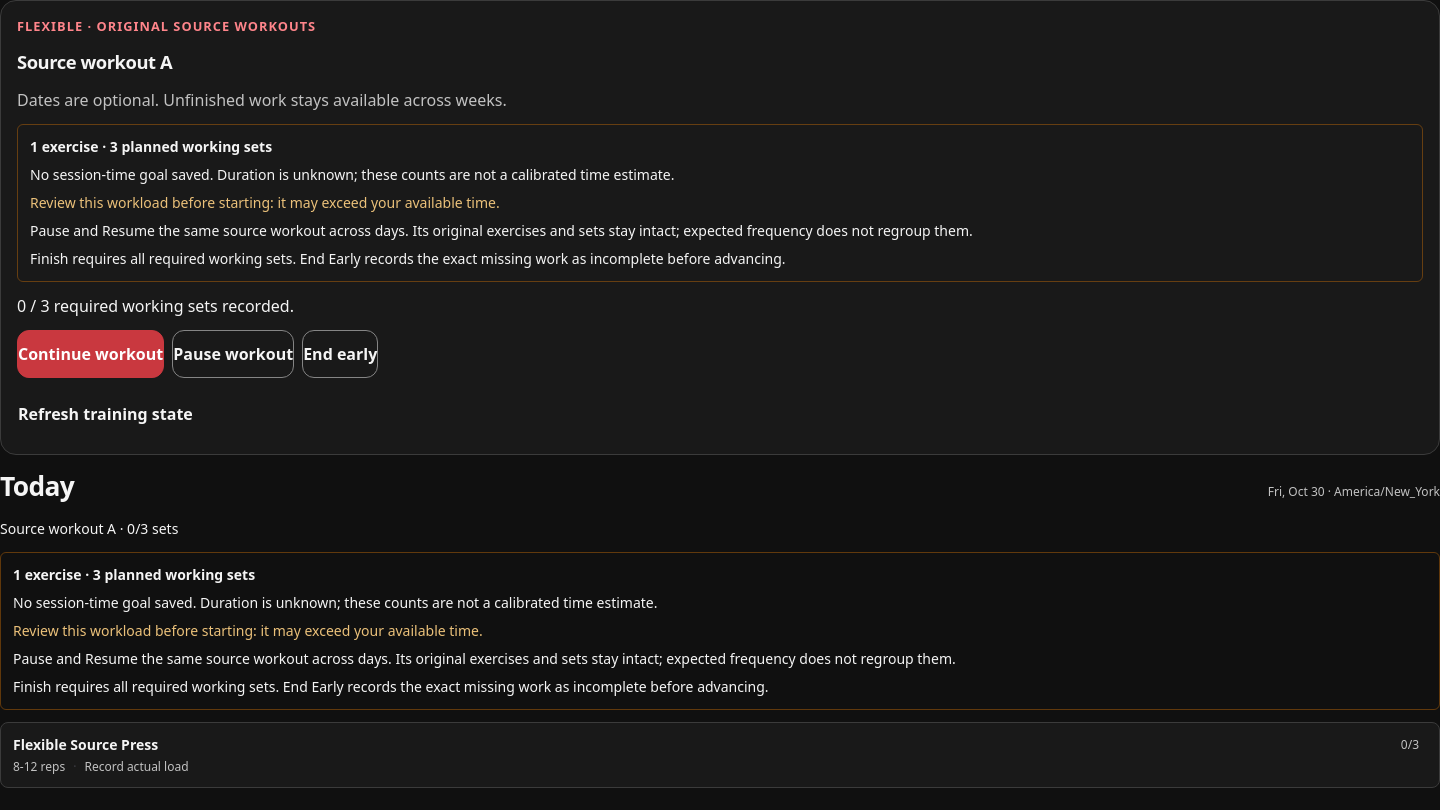
Test: Pause retires the runner view without deleting progress and exposes Resume
This screenshot has width=1440, height=810.
expect the button "Flexible Source Press 0/3 8-12 reps · Record actual load" is shown: met, box x1=0 y1=722 x2=1439 y2=788
Step 1. Click the button "Pause workout" → point(233, 354), box x1=172 y1=330 x2=294 y2=378
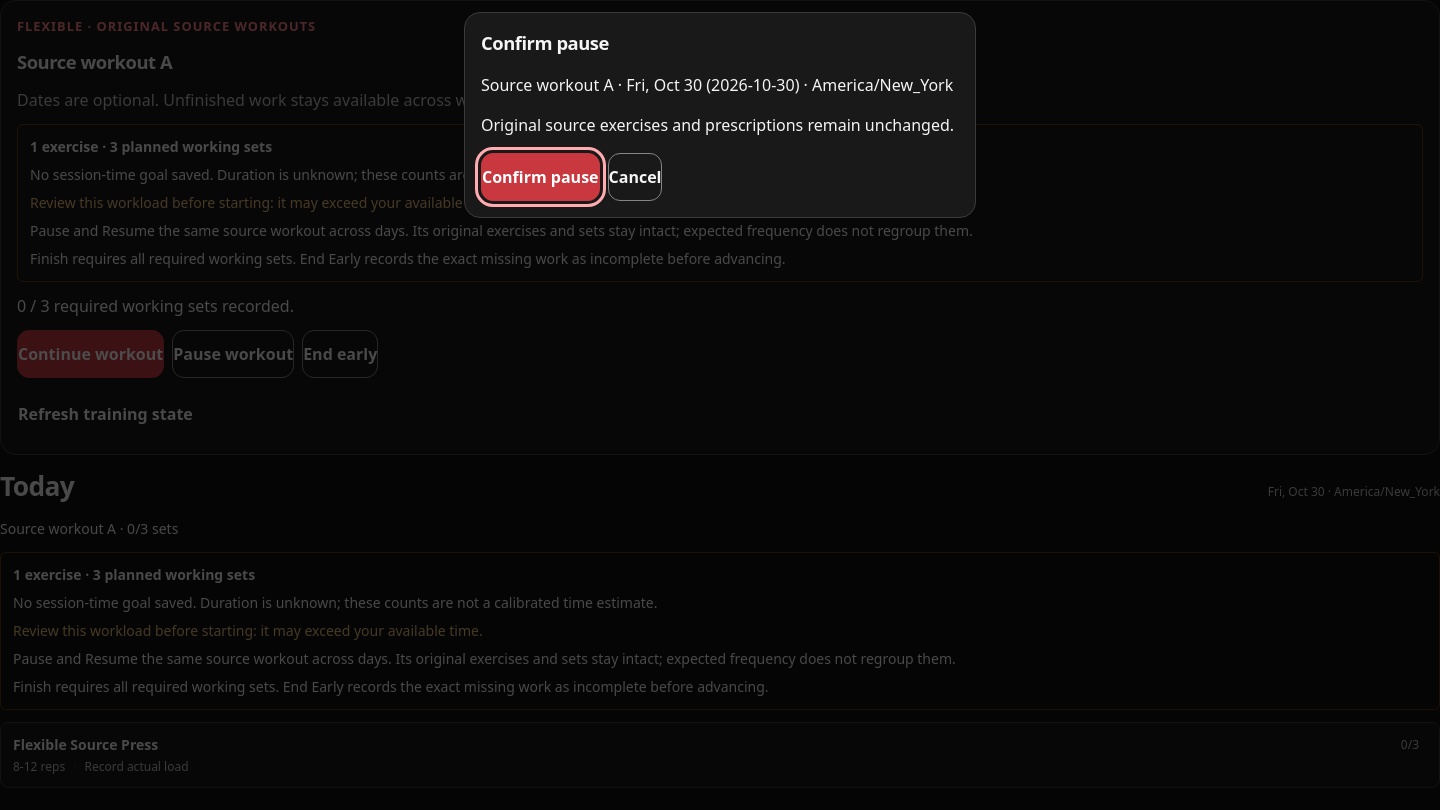
Step 2. Click the button "Confirm pause" → point(540, 177), box x1=481 y1=153 x2=600 y2=201
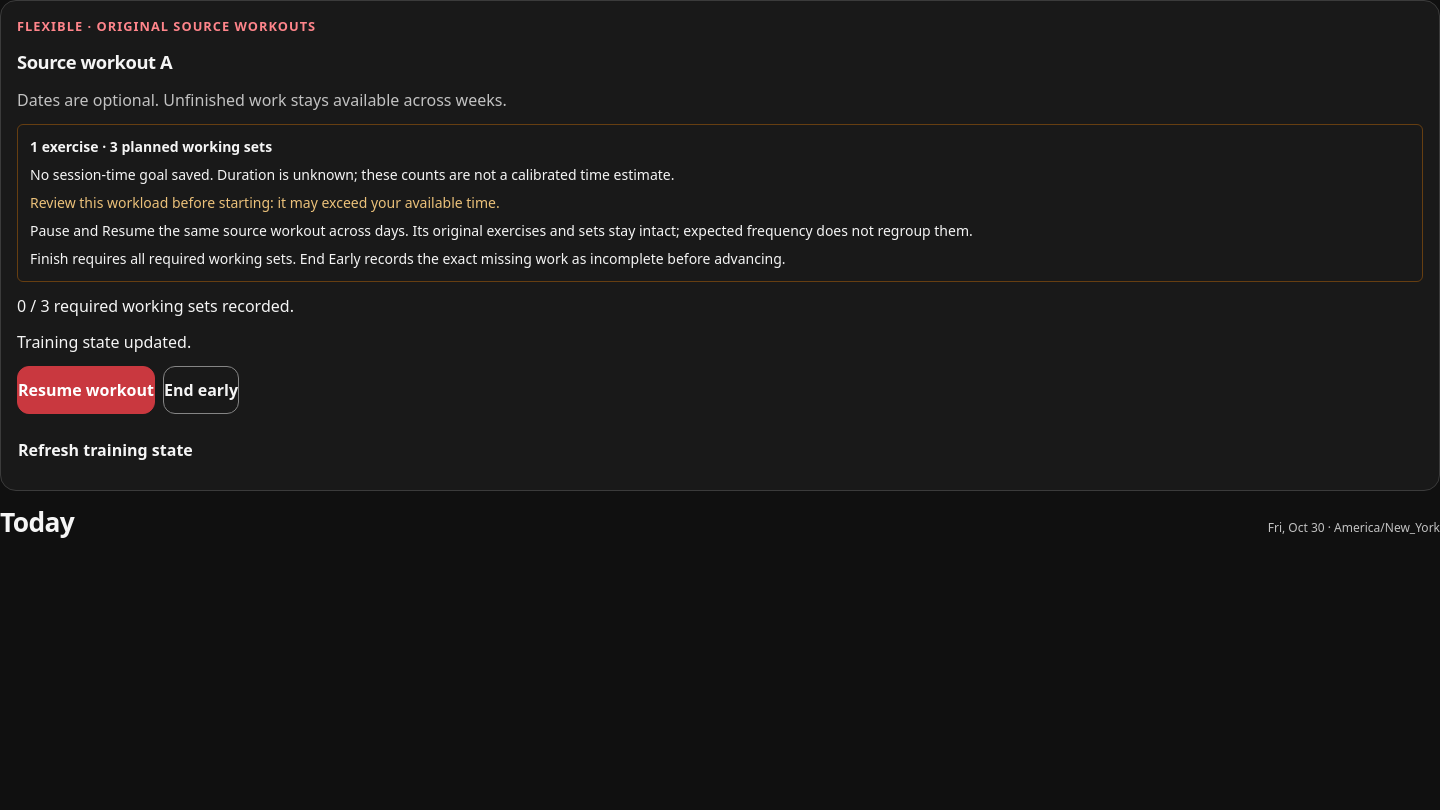
expect the button "Resume workout" is shown: met, box x1=17 y1=366 x2=155 y2=414
expect the button "Flexible Source Press" is gone: met
